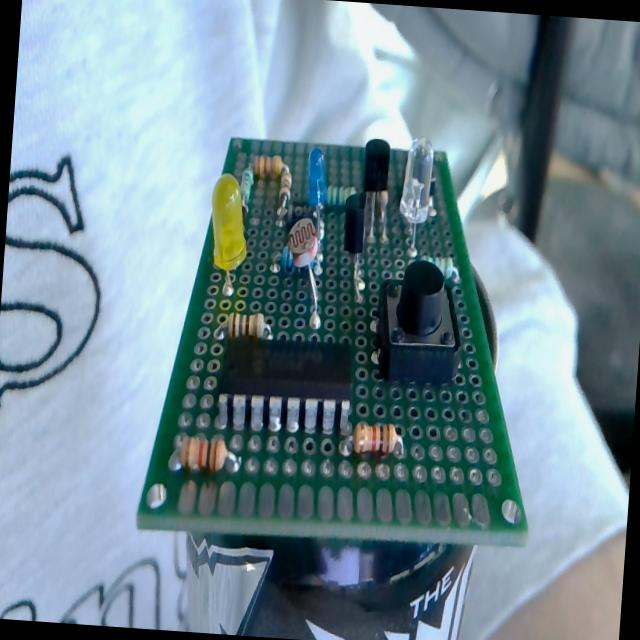IC: (210, 328, 360, 442)
cds: (277, 205, 335, 330)
led: (203, 171, 254, 300), (396, 136, 436, 258), (302, 146, 331, 252)
resistor: (178, 433, 228, 473), (352, 419, 400, 456), (224, 310, 272, 340), (252, 150, 287, 178), (276, 166, 292, 220), (238, 164, 254, 210), (325, 184, 355, 208)
switch: (372, 257, 463, 388)
transistor: (358, 136, 391, 245), (338, 188, 369, 304)
